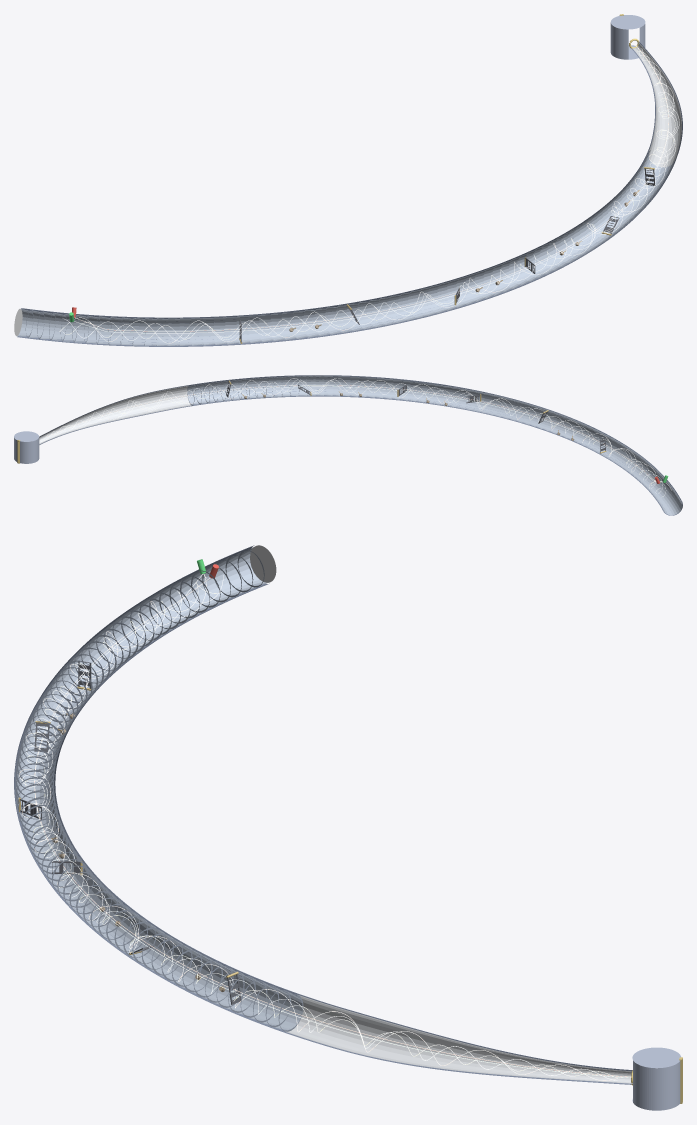
File: light-pipe.gltf
3 views of the same model, one above another, from view 1: azimuth 30°, elevation 25°; view 2: azimuth 150°, elevation 25°; view 3: azimuth 270°, elevation 25° (orthographic). The views are drawn at different scales.
Parts seen in each view (by area): view 1: recycling facets, mirror-coated cladding, contributing facets, store, vortex strand, red, vortex strand, green, vortex strand, gold, red beam, green beam, tabs; view 2: recycling facets, contributing facets, mirror-coated cladding, store, vortex strand, red, vortex strand, green, vortex strand, gold, red beam, green beam, tabs; view 3: recycling facets, facet steps, contributing facets, mirror-coated cladding, store, vortex strand, green, vortex strand, red, vortex strand, gold, tabs, red beam, green beam.
Boxes of the visible parts, x1,y1,x2,y2 form: recycling facets: (17, 150, 674, 345); mirror-coated cladding: (17, 41, 682, 346); contributing facets: (632, 42, 681, 167); store: (610, 15, 645, 59); vortex strand, red: (59, 48, 679, 343); vortex strand, green: (63, 50, 677, 341); vortex strand, gold: (62, 50, 675, 339); red beam: (74, 44, 668, 331); green beam: (74, 44, 668, 333); tabs: (239, 168, 655, 342); recycling facets: (187, 376, 682, 515); contributing facets: (39, 385, 191, 444); mirror-coated cladding: (39, 375, 682, 515); store: (14, 431, 39, 463); vortex strand, red: (44, 378, 671, 490); vortex strand, green: (39, 379, 662, 493); vortex strand, gold: (41, 380, 666, 496); red beam: (41, 385, 655, 480); green beam: (40, 386, 661, 481); tabs: (226, 382, 605, 452); recycling facets: (16, 547, 302, 1030); facet steps: (15, 550, 303, 1031); contributing facets: (285, 995, 632, 1083); mirror-coated cladding: (14, 545, 632, 1084); store: (632, 1047, 680, 1110); vortex strand, green: (22, 575, 617, 1080); vortex strand, red: (19, 574, 616, 1080); vortex strand, gold: (24, 582, 617, 1078); tabs: (20, 661, 241, 1004); red beam: (34, 577, 630, 1077); green beam: (34, 574, 630, 1077).
Size of the model in its own units: 161 by 6.76 by 85.54.
